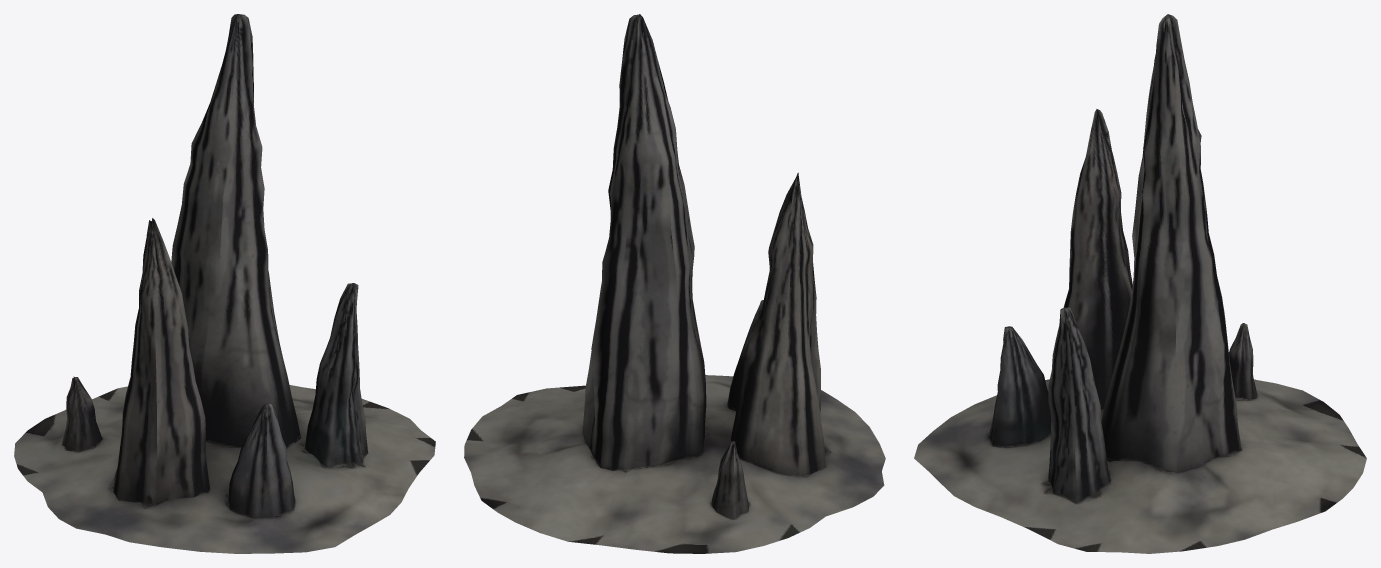
File: cavern_stalagmites.glb
The picture shows the model from 3 angles, left to right: view 1: azimuth 30°, elevation 25°; view 2: azimuth 150°, elevation 25°; view 3: azimuth 270°, elevation 25°; orthographic projection. The views are drawn at different scales.
Parts seen in each view (by area): view 1: cavern_stalagmites; view 2: cavern_stalagmites; view 3: cavern_stalagmites.
Part boxes in pixels (x1,y1,x2,y2): cavern_stalagmites: (14,14,435,553); cavern_stalagmites: (464,14,885,553); cavern_stalagmites: (914,14,1366,553).
Size of the model in its own units: 1.92 by 2.28 by 1.98.
Materials: 1 (1 with a texture image).
